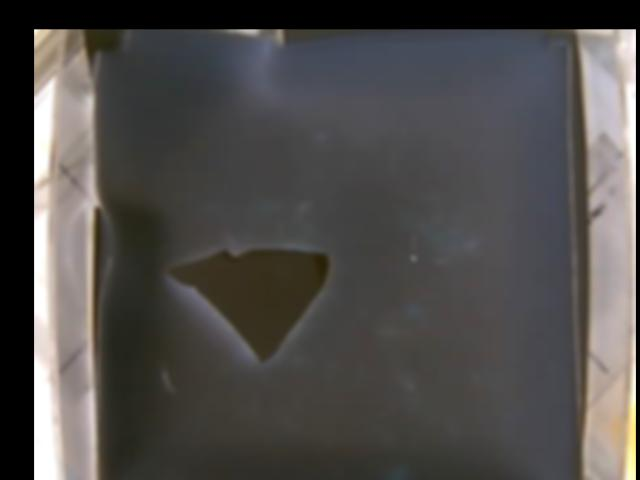China: (167, 241, 330, 363)
